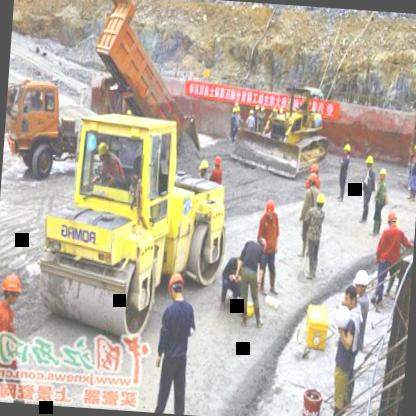head: (342, 283, 360, 308)
helmet: (164, 268, 188, 302), (0, 271, 22, 307), (350, 266, 371, 298), (260, 197, 280, 222), (93, 142, 113, 166), (312, 190, 328, 212), (385, 209, 399, 232), (209, 154, 224, 174), (362, 152, 376, 171), (196, 158, 208, 178), (375, 165, 389, 181), (256, 238, 268, 254), (308, 170, 319, 186), (342, 142, 352, 158)
